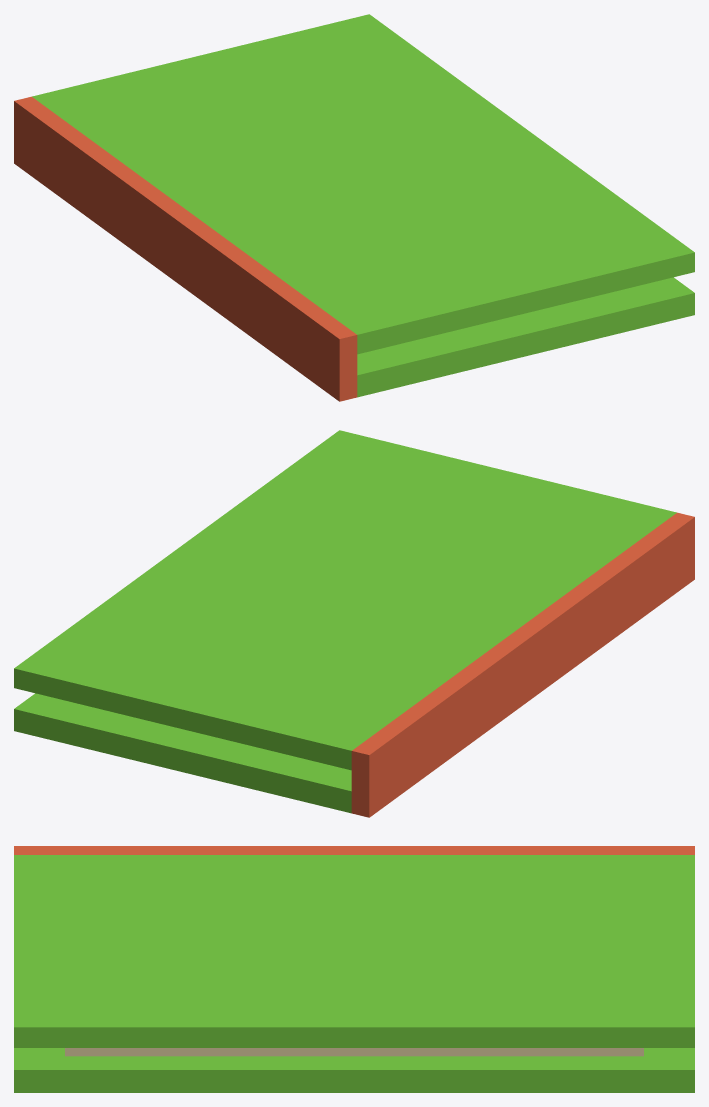
File: book_green.fbx
3 renders of one model, top to bottom at view 1: azimuth 30°, elevation 25°; view 2: azimuth 150°, elevation 25°; view 3: azimuth 270°, elevation 25°, orthographic. The views are drawn at different scales.
Visible parts, largest first — view 1: Cube; view 2: Cube; view 3: Cube.
Boxes of the visible parts, x1,y1,x2,y2 form: Cube: (14,14,694,401); Cube: (14,430,694,817); Cube: (14,846,694,1092).
Size of the model in its own units: 126 by 21.22 by 200.
